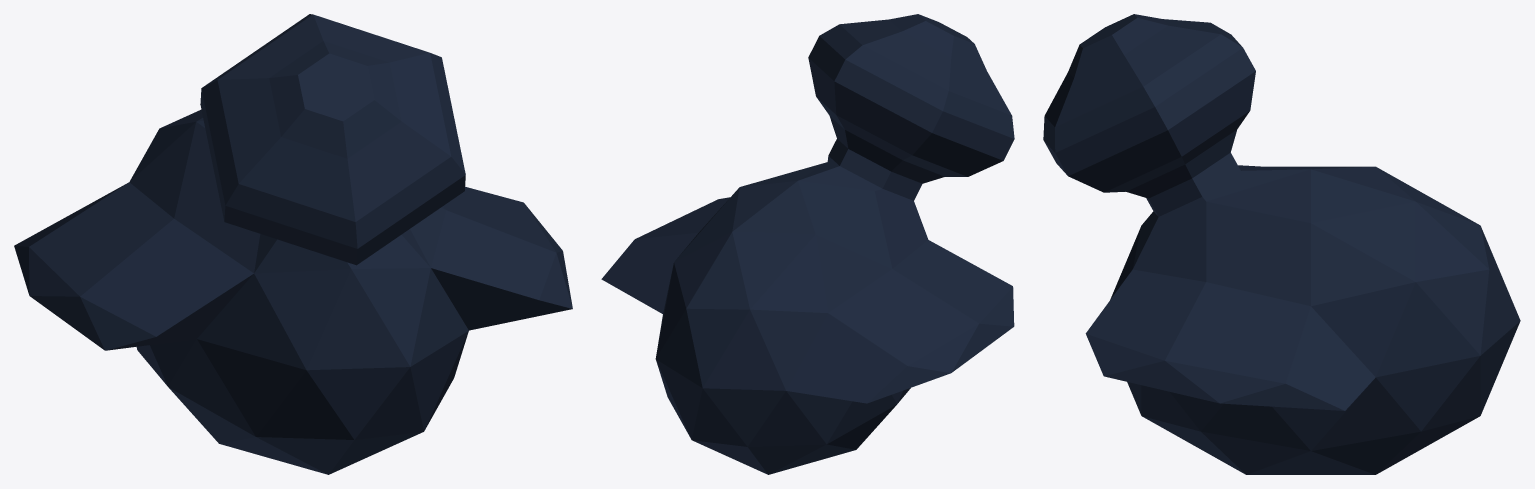
Rendered from Coo_Coo_Birdy.fbx.
The picture shows the model from 3 angles, left to right: view 1: azimuth 30°, elevation 25°; view 2: azimuth 150°, elevation 25°; view 3: azimuth 270°, elevation 25°; orthographic projection. The views are drawn at different scales.
Visible parts, largest first — view 1: Icosphere; view 2: Icosphere; view 3: Icosphere.
Part boxes in pixels (x1,y1,x2,y2): Icosphere: (14, 14, 572, 474); Icosphere: (601, 14, 1014, 474); Icosphere: (1043, 14, 1520, 474).
Size of the model in its own units: 83.47 by 85.3 by 86.15.
